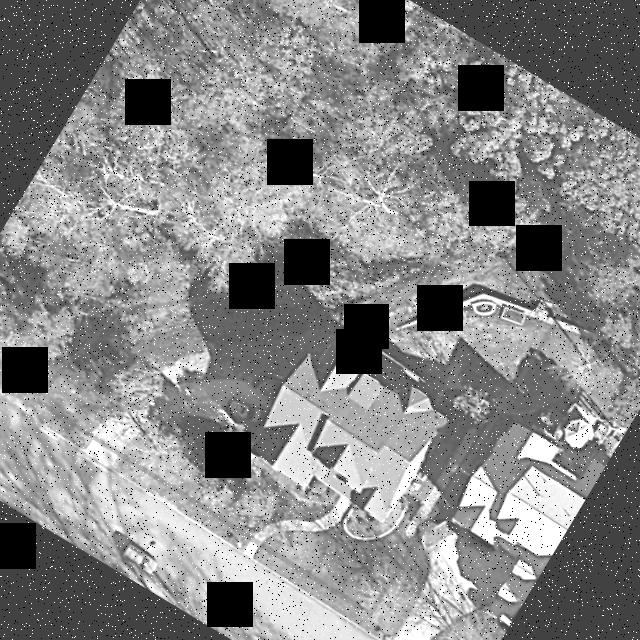Driveway: (92, 380, 272, 451)
Extra Driveway: (83, 440, 116, 467)
Extra Lawn: (111, 458, 244, 548), (253, 548, 371, 629), (22, 401, 89, 448)
Extra Sidewalk: (243, 542, 258, 558)
House: (248, 338, 455, 523)
Other: (393, 290, 561, 329)
Sidewalk: (253, 496, 349, 542)
